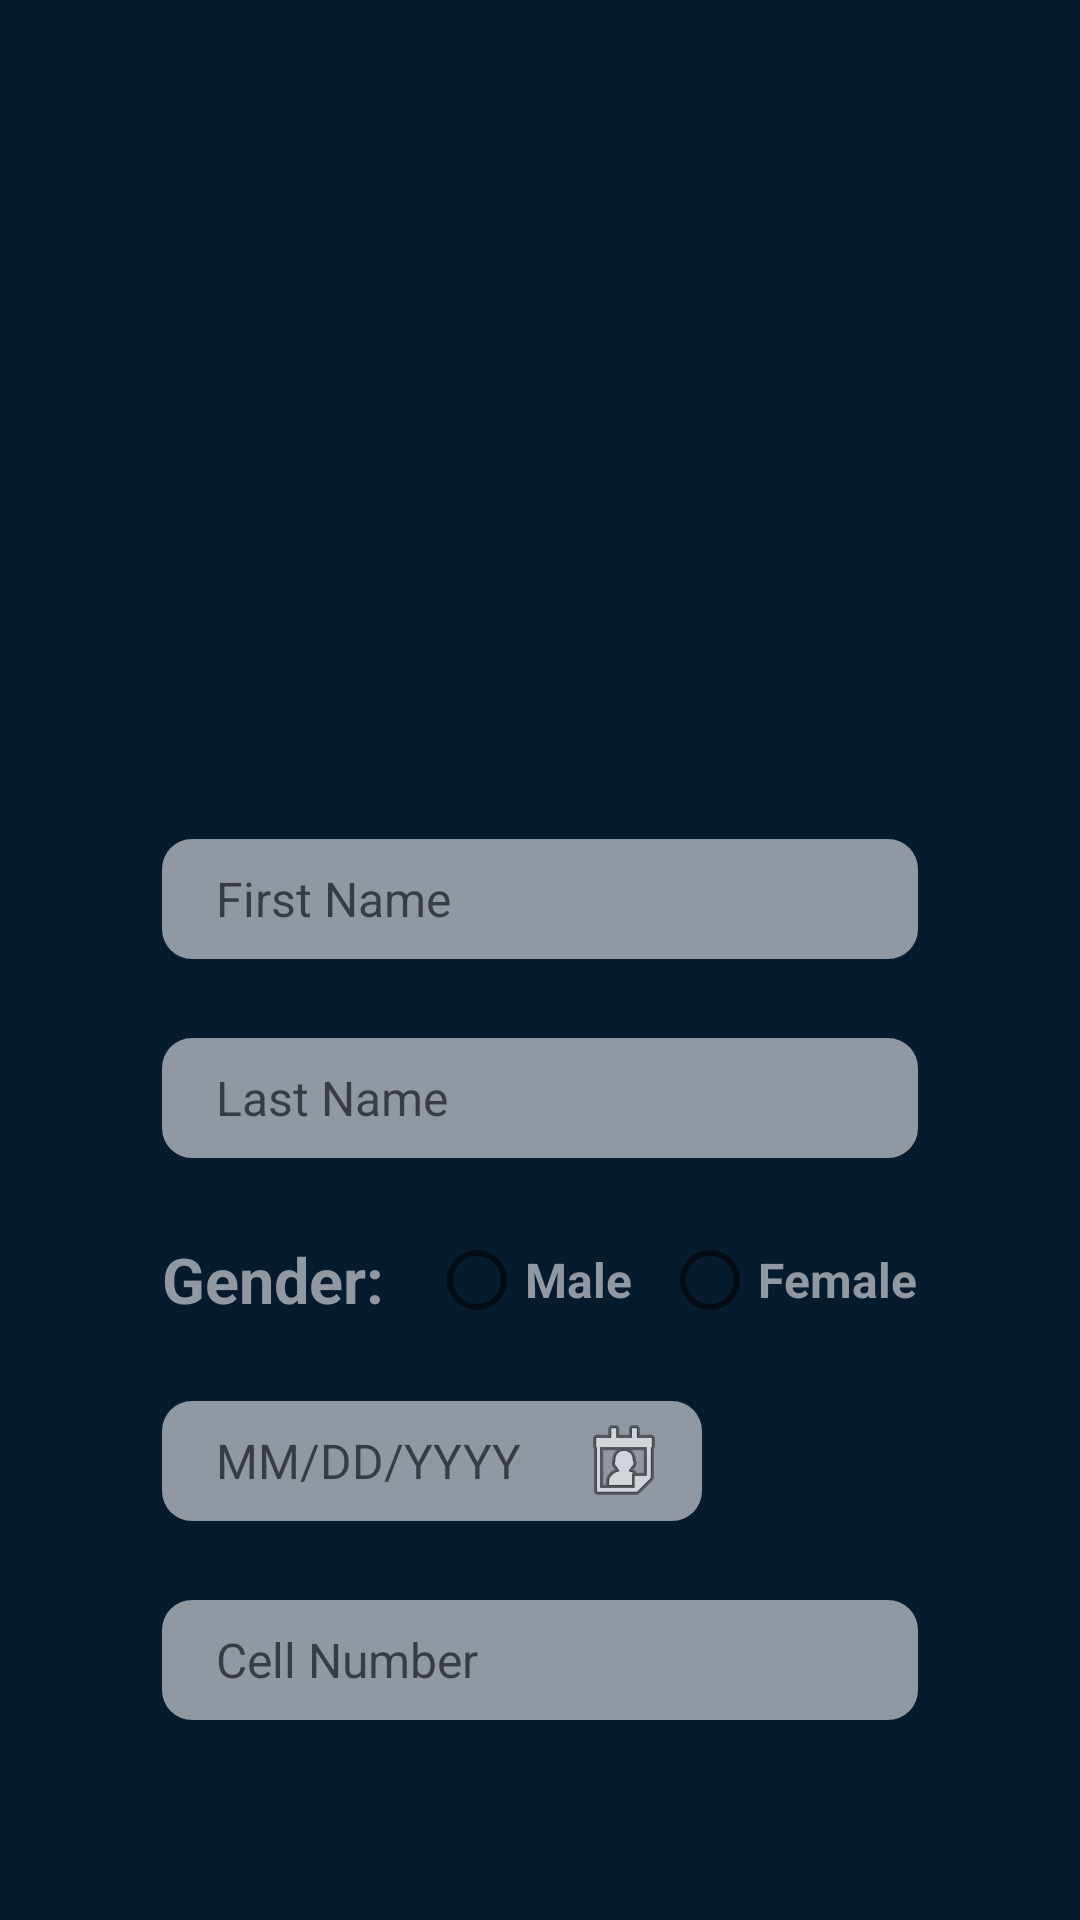

Locate icon controls on the screen. Image size 1080*1920, boxes as box=[x1, y1, x2, y2].
calendar: box=[593, 1425, 655, 1495]
